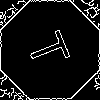T: (25, 25, 79, 71)
